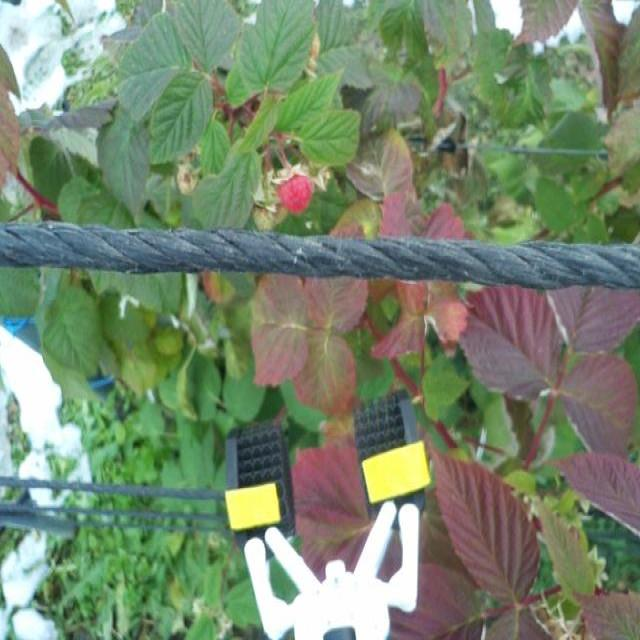Riped berries: (275, 169, 314, 216)
